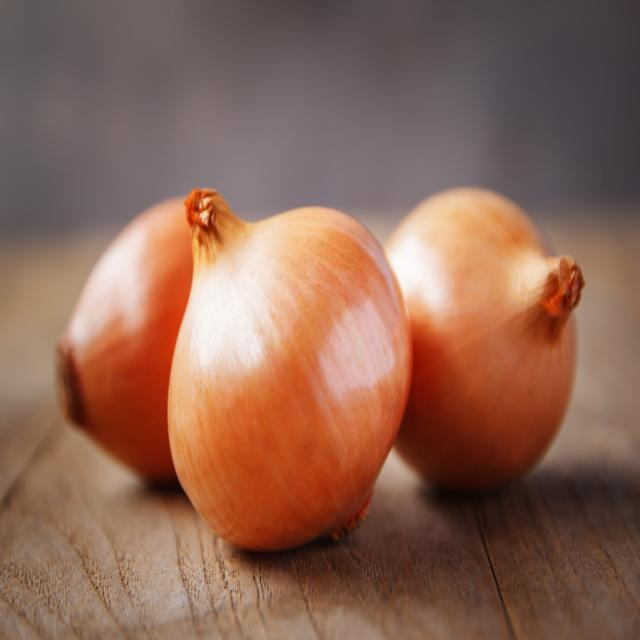onion: (55, 184, 582, 556), (168, 188, 412, 555)
